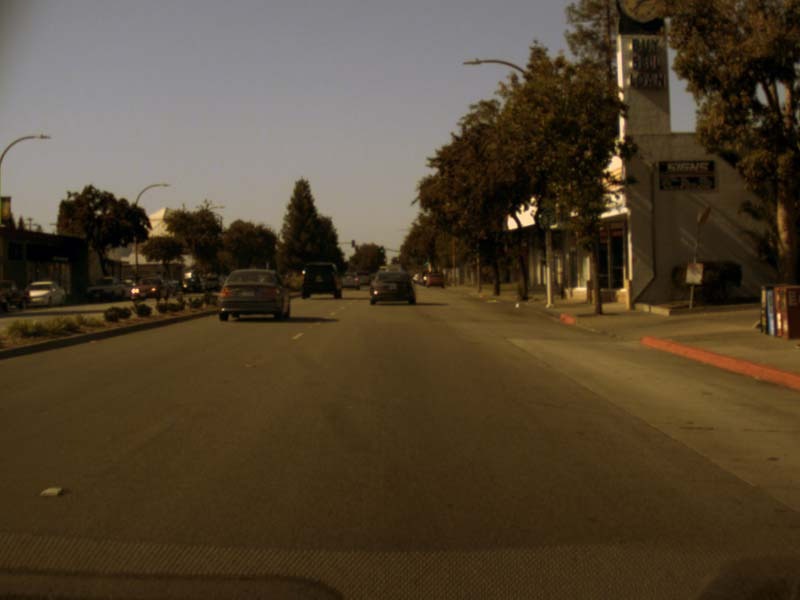Green: (379, 246, 384, 257)
Yellow: (396, 255, 399, 262)
